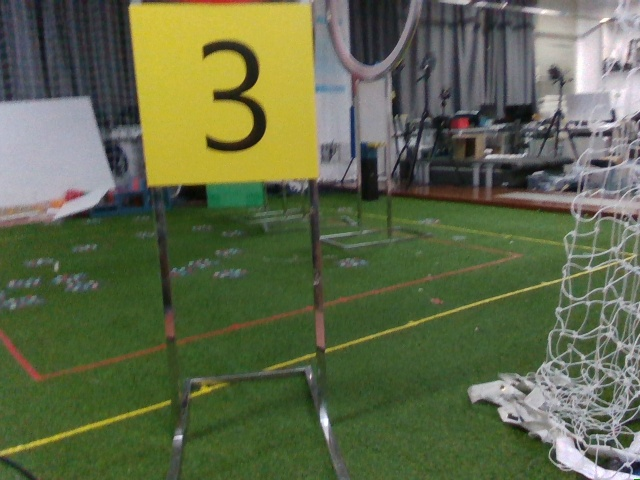target: (135, 11, 310, 174)
